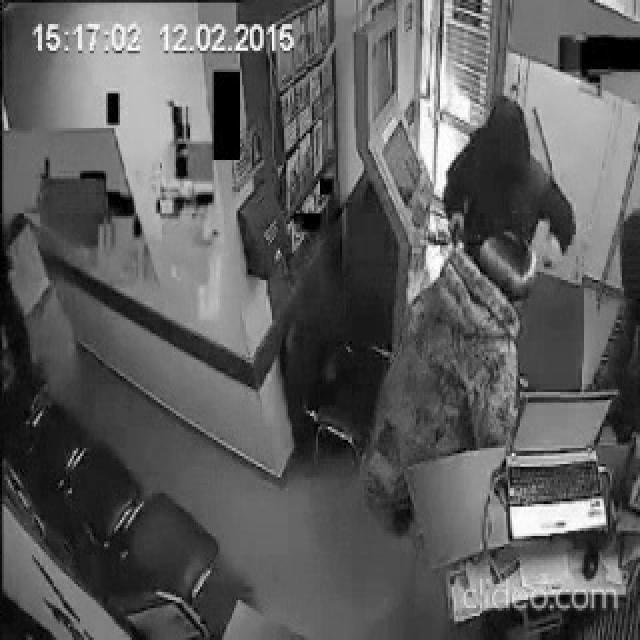gun: (449, 216, 464, 254)
person: (357, 226, 540, 538)
person with a gun: (444, 96, 576, 308)
